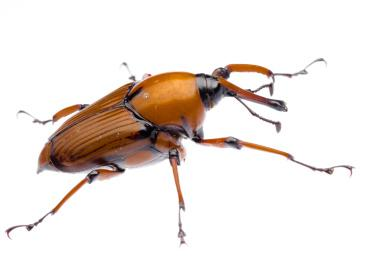Curculionidae: (4, 57, 356, 246)
